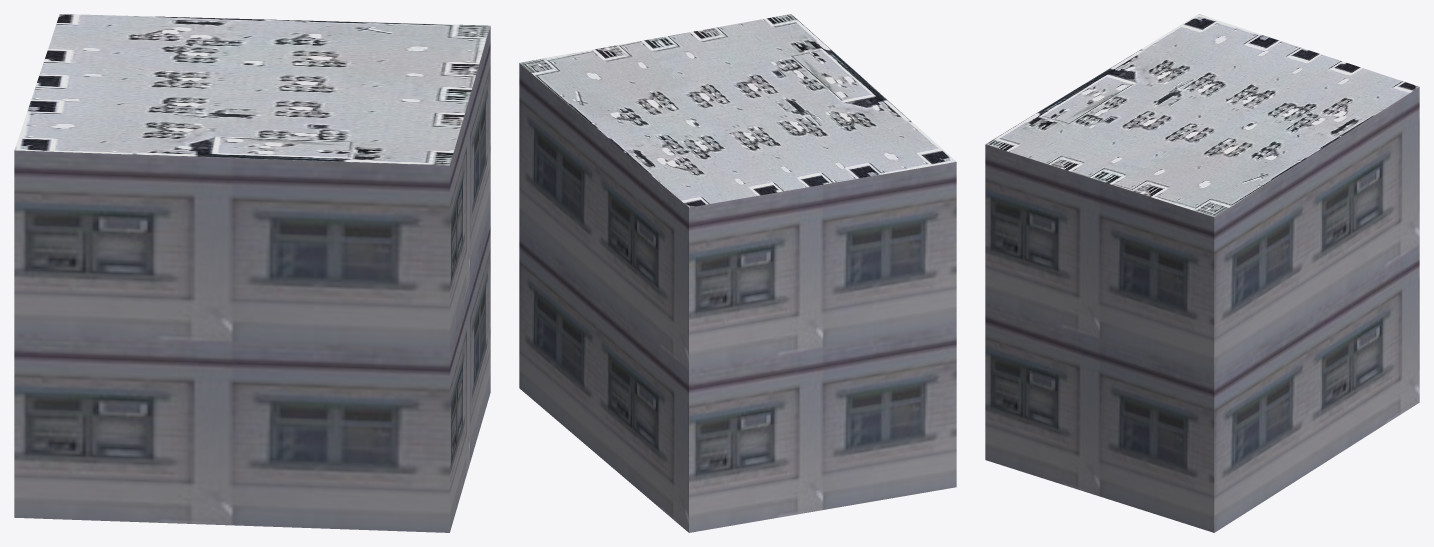
Rendered from ResTex__2018.fbx.
3 views of the same model, side by side, from view 1: azimuth 30°, elevation 25°; view 2: azimuth 150°, elevation 25°; view 3: azimuth 270°, elevation 25° (orthographic). The views are drawn at different scales.
Visible parts, largest first — view 1: CityEngineMaterial_1_m, CityEngineMaterial_2_m; view 2: CityEngineMaterial_1_m, CityEngineMaterial_2_m; view 3: CityEngineMaterial_1_m, CityEngineMaterial_2_m.
Part boxes in pixels (x1,y1,x2,y2): CityEngineMaterial_1_m: [14, 26, 490, 532]; CityEngineMaterial_2_m: [14, 14, 490, 165]; CityEngineMaterial_1_m: [519, 63, 956, 532]; CityEngineMaterial_2_m: [519, 14, 956, 207]; CityEngineMaterial_1_m: [985, 87, 1419, 532]; CityEngineMaterial_2_m: [985, 14, 1419, 217].
Size of the model in its own units: 8.29 by 6 by 7.49.
Materials: 2 (2 with a texture image).
